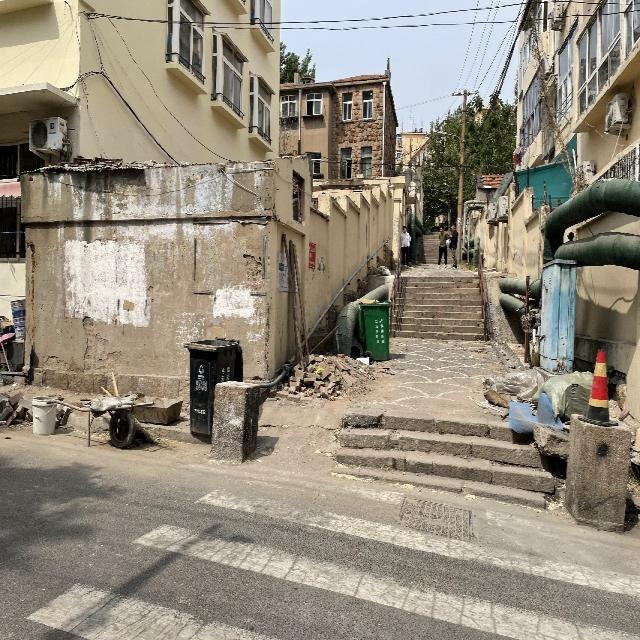garbage_bin: (184, 337, 243, 434)
overflow: (357, 297, 390, 360)
